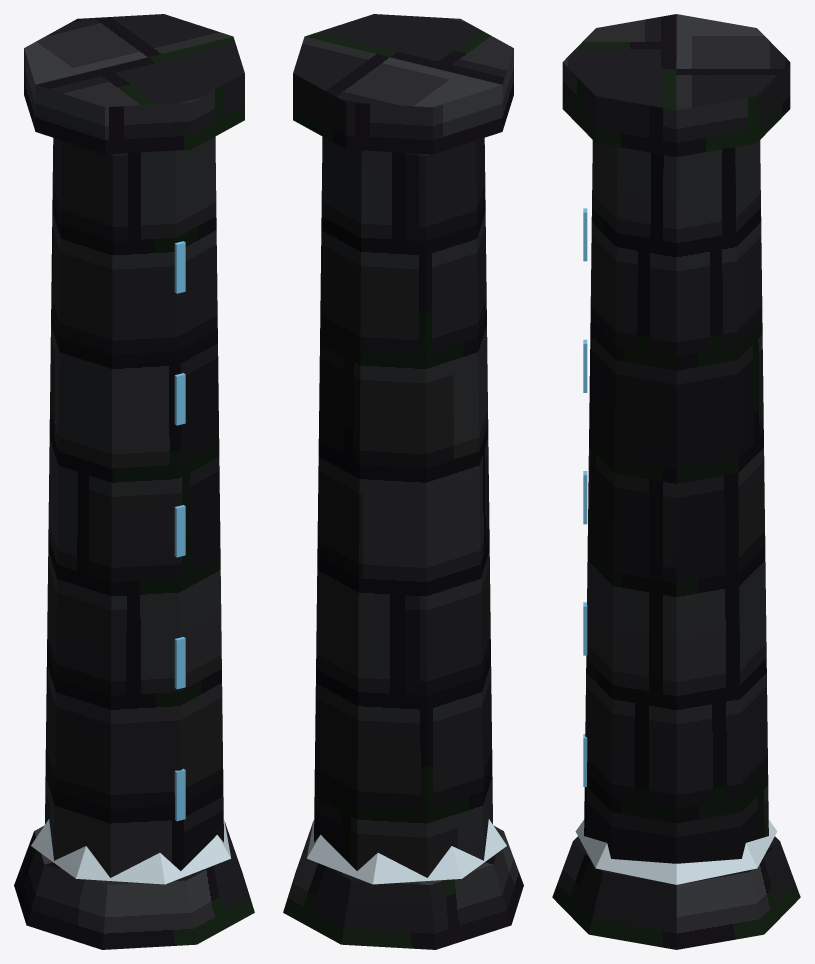
Rendered from spire_pillar.glb.
3 renders of one model, left to right at view 1: azimuth 30°, elevation 25°; view 2: azimuth 150°, elevation 25°; view 3: azimuth 270°, elevation 25°, orthographic.
Parts seen in each view (by area): view 1: spire_pillar; view 2: spire_pillar; view 3: spire_pillar.
Part boxes in pixels (bbox=[...]): spire_pillar: bbox=[14, 14, 254, 949]; spire_pillar: bbox=[283, 14, 523, 949]; spire_pillar: bbox=[552, 14, 800, 949].
Bounding box in the file's own units: 1.2 × 4.45 × 1.2.
Materials: 3 (1 with a texture image).
